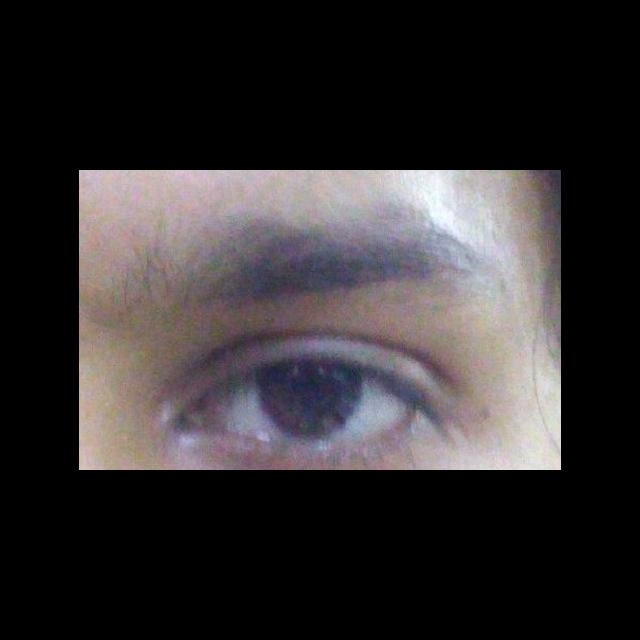eye: (210, 360, 414, 444)
iris: (259, 365, 364, 440)
